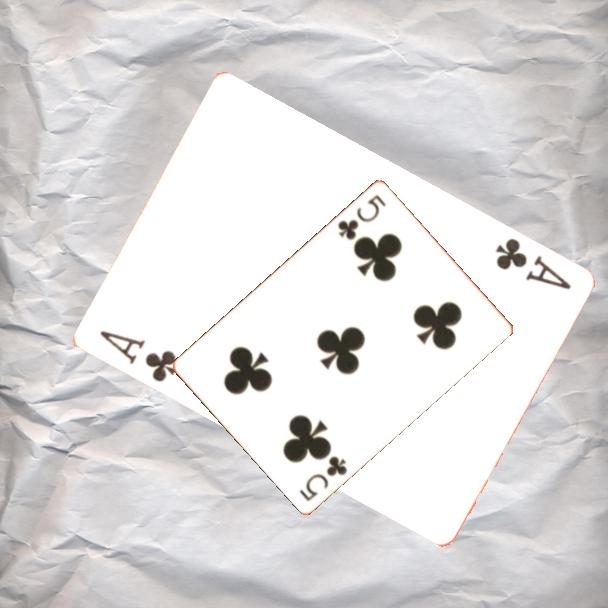c01: (95, 327, 179, 385), (491, 234, 573, 293)
c05: (334, 190, 389, 243), (296, 452, 350, 504)
